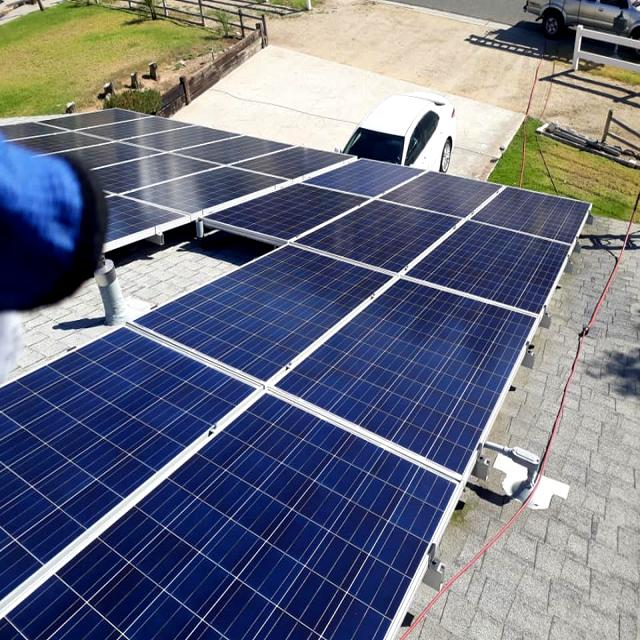crack: (129, 260, 408, 398), (318, 194, 458, 281), (372, 322, 496, 412), (256, 467, 344, 577), (147, 491, 250, 574), (78, 351, 178, 428), (262, 184, 366, 256), (198, 459, 281, 542), (460, 222, 552, 296), (214, 292, 304, 364), (9, 426, 85, 506), (140, 535, 222, 604)
